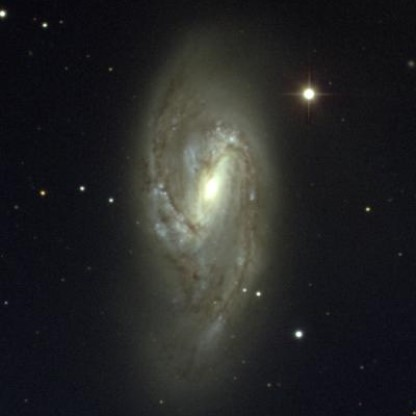Messier 66: (112, 23, 329, 390)
